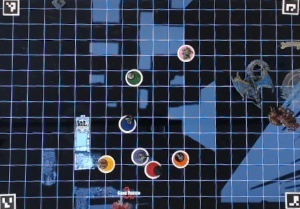blue: (116, 113, 138, 135)
green: (122, 67, 144, 87)
orange: (170, 148, 193, 171)
pink: (175, 42, 196, 62)
red: (142, 159, 162, 179)
violet: (131, 146, 150, 166)
yellow: (94, 152, 116, 174)
